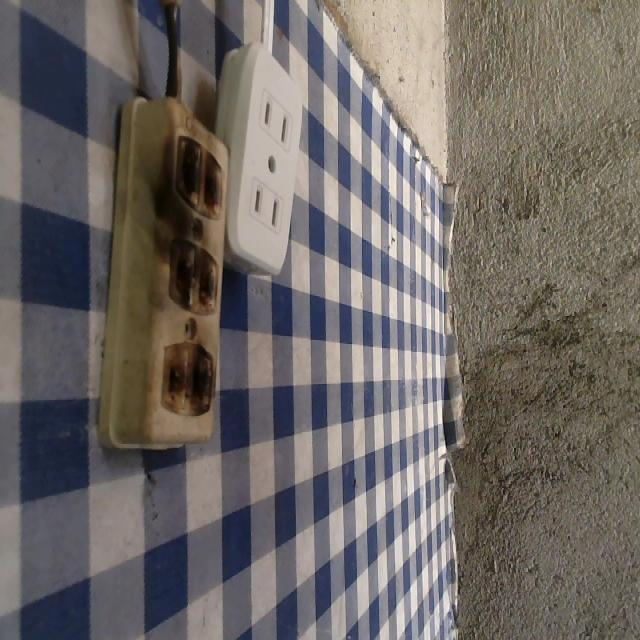-: (171, 132, 226, 220), (166, 235, 223, 309), (157, 342, 218, 406)
